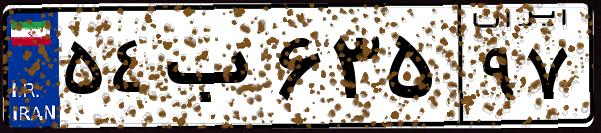3: (330, 28, 385, 110)
4: (110, 28, 158, 98)
5: (385, 28, 445, 110), (57, 26, 110, 100)
6: (270, 28, 330, 110)
7: (525, 38, 570, 115)
9: (475, 38, 525, 113)
ب: (158, 20, 270, 120)
